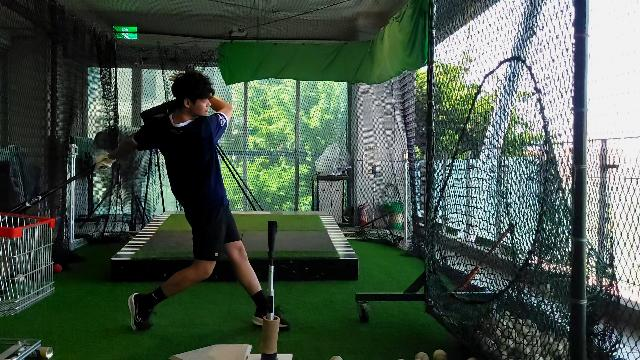bat: (0, 166, 96, 224)
